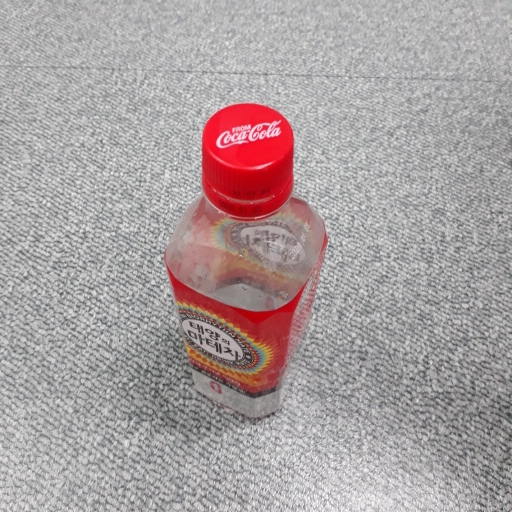Plastic_0: (161, 102, 330, 420)
